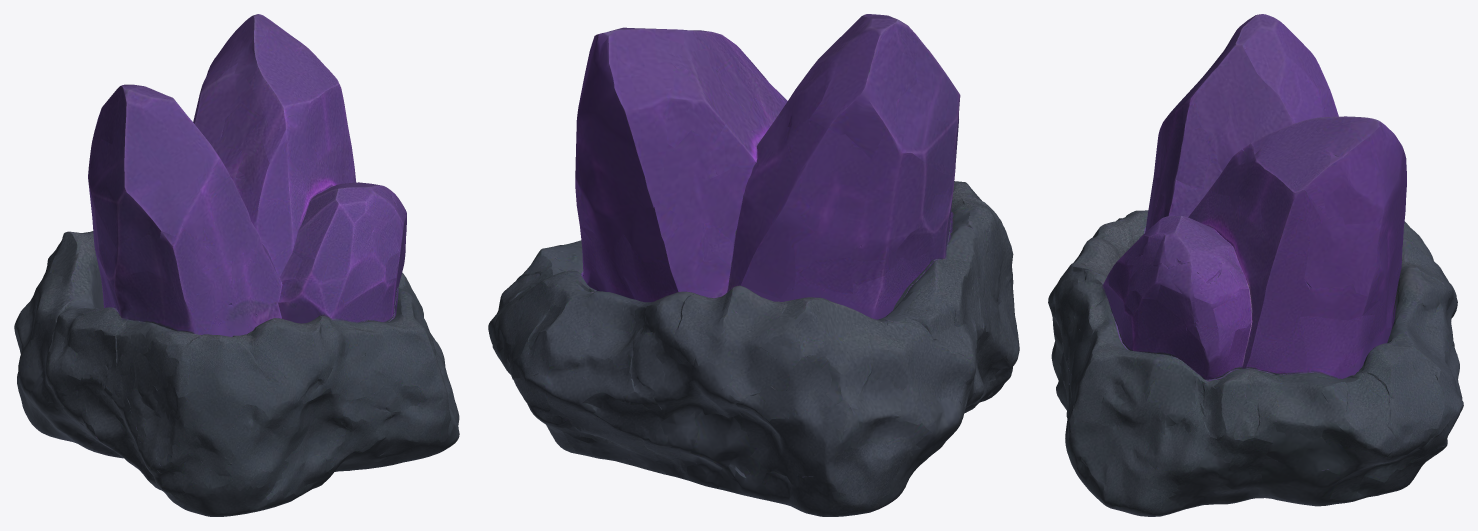
File: exotic_matter.glb
The picture shows the model from 3 angles, left to right: view 1: azimuth 30°, elevation 25°; view 2: azimuth 150°, elevation 25°; view 3: azimuth 270°, elevation 25°; orthographic projection. The views are drawn at different scales.
Parts seen in each view (by area): view 1: output_unwrapped; view 2: output_unwrapped; view 3: output_unwrapped.
Part boxes in pixels (x1=…): output_unwrapped: x1=14, y1=14, x2=459, y2=516; output_unwrapped: x1=488, y1=14, x2=1019, y2=516; output_unwrapped: x1=1048, y1=14, x2=1463, y2=516.
Size of the model in its own units: 1.9 by 1.85 by 1.86.
1 material, 1 textured.
